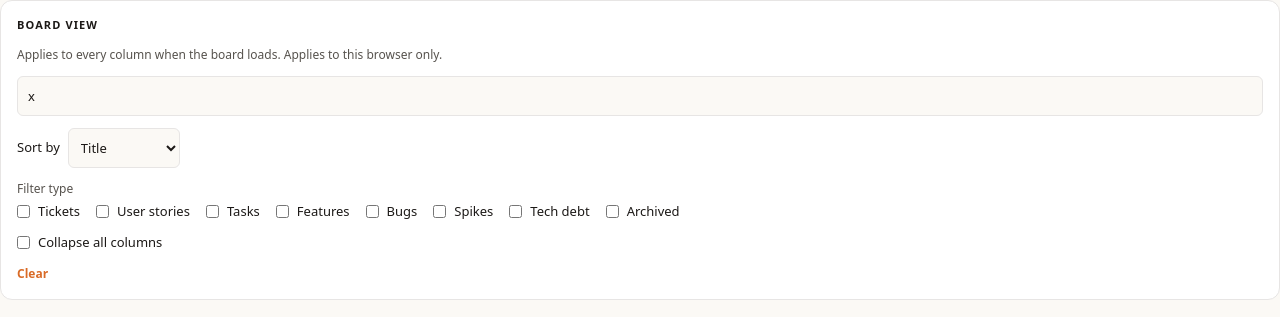
BoardViewSection › shows the saved view and Clear resets it
Expected: the field named "Search" holds "x", left=17, top=76, right=1263, bottom=116
Click the button "Clear". click: point(33, 274)
box: left=17, top=264, right=48, bottom=282
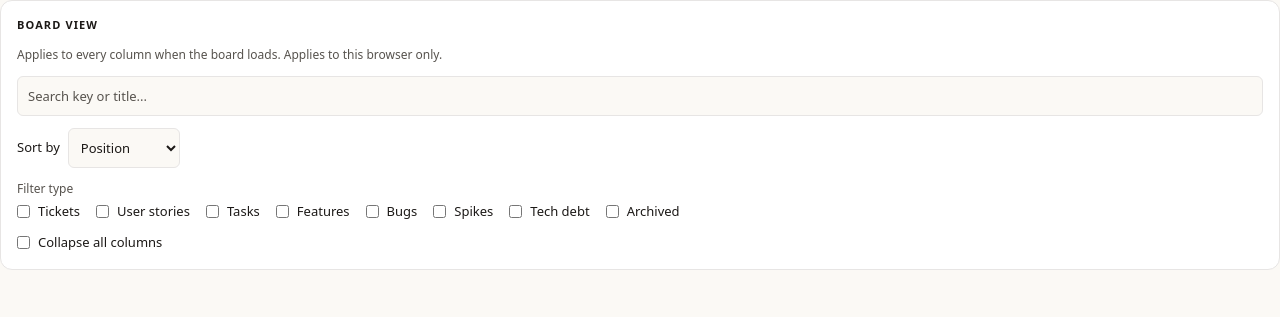
Now the field labelled "Search" is empty, box left=17, top=76, right=1263, bottom=116
